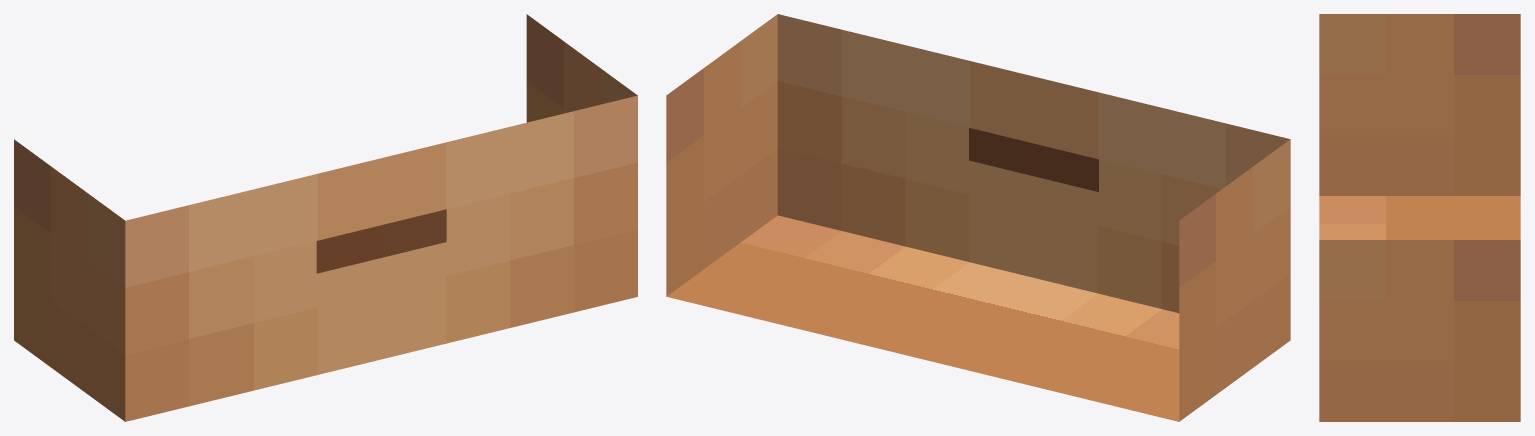
Rendered from skM1_jesse_mouthDefault.glb.
3 views of the same model, side by side, from view 1: azimuth 30°, elevation 25°; view 2: azimuth 150°, elevation 25°; view 3: azimuth 270°, elevation 25° (orthographic). The views are drawn at different scales.
Visible parts, largest first — view 1: skM1_jesse; view 2: skM1_jesse; view 3: skM1_jesse.
Part boxes in pixels (x1,y1,x2,y2): skM1_jesse: [14, 14, 637, 421]; skM1_jesse: [666, 14, 1290, 421]; skM1_jesse: [1319, 14, 1520, 421].
Size of the model in its own units: 0.5012 by 0.1883 by 0.1885.
1 material, 1 textured.
